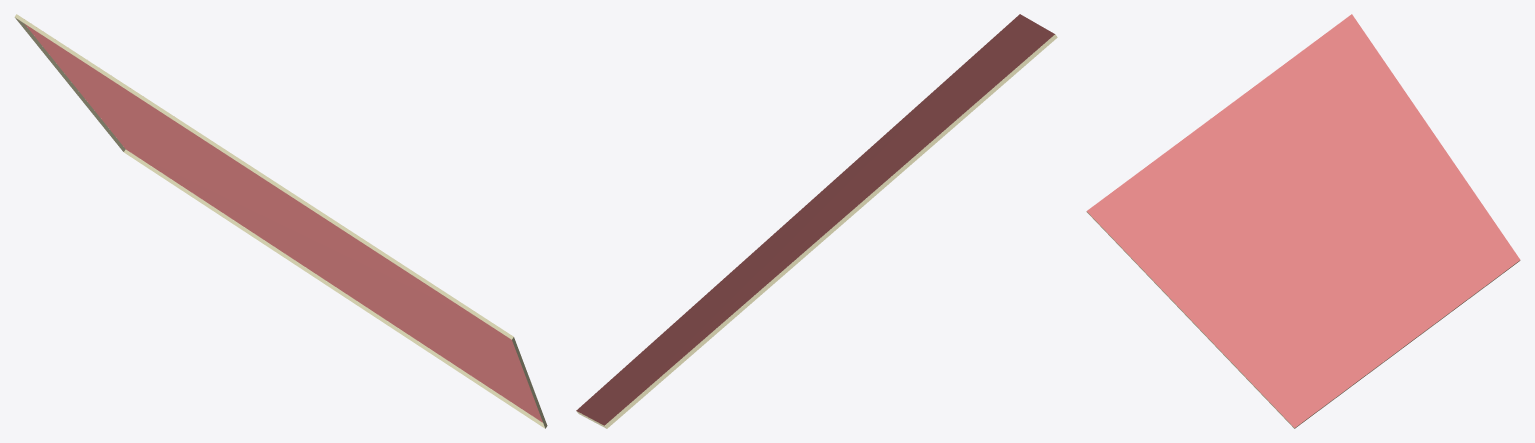
File: tile_096.glb
3 views of the same model, side by side, from view 1: azimuth 30°, elevation 25°; view 2: azimuth 150°, elevation 25°; view 3: azimuth 270°, elevation 25° (orthographic). The views are drawn at different scales.
Parts seen in each view (by area): view 1: Batched_Building_ID_FC667D5F-36D0-4767-BAB5-4F91EFFA0DFA (×2); view 2: Batched_Building_ID_FC667D5F-36D0-4767-BAB5-4F91EFFA0DFA (×2); view 3: Batched_Building_ID_FC667D5F-36D0-4767-BAB5-4F91EFFA0DFA (×2).
Part boxes in pixels (x1=…): Batched_Building_ID_FC667D5F-36D0-4767-BAB5-4F91EFFA0DFA (×2): x1=14, y1=14, x2=547, y2=428; Batched_Building_ID_FC667D5F-36D0-4767-BAB5-4F91EFFA0DFA (×2): x1=576, y1=14, x2=1057, y2=428; Batched_Building_ID_FC667D5F-36D0-4767-BAB5-4F91EFFA0DFA (×2): x1=1086, y1=14, x2=1520, y2=428.
Bounding box in the file's own units: 14.95 × 14.64 × 20.42.
